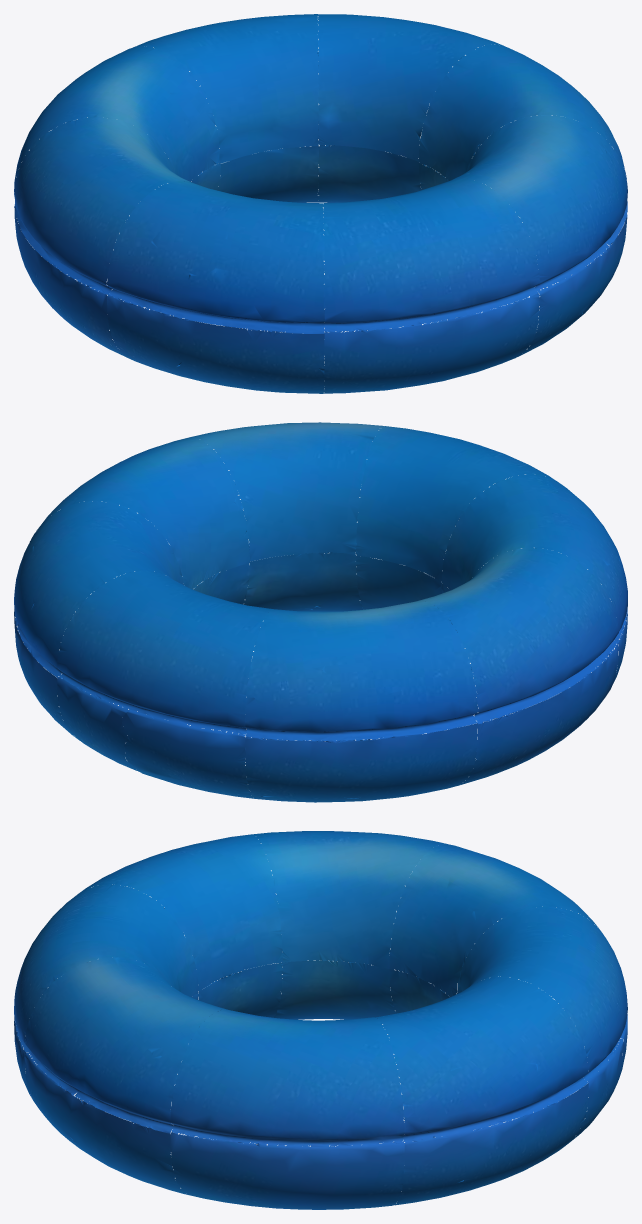
Rendered from flotador.glb.
3 views of the same model, one above another, from view 1: azimuth 30°, elevation 25°; view 2: azimuth 150°, elevation 25°; view 3: azimuth 270°, elevation 25° (orthographic).
Parts seen in each view (by area): view 1: tripo_node_4aa52b19-8070-45d1-a28c-f5e915612e06; view 2: tripo_node_4aa52b19-8070-45d1-a28c-f5e915612e06; view 3: tripo_node_4aa52b19-8070-45d1-a28c-f5e915612e06.
Boxes of the visible parts, x1,y1,x2,y2 form: tripo_node_4aa52b19-8070-45d1-a28c-f5e915612e06: (14,14,627,393); tripo_node_4aa52b19-8070-45d1-a28c-f5e915612e06: (14,422,627,802); tripo_node_4aa52b19-8070-45d1-a28c-f5e915612e06: (14,831,627,1209).
Size of the model in its own units: 0.9998 by 0.315 by 0.9999.
Materials: 1 (1 with a texture image).
